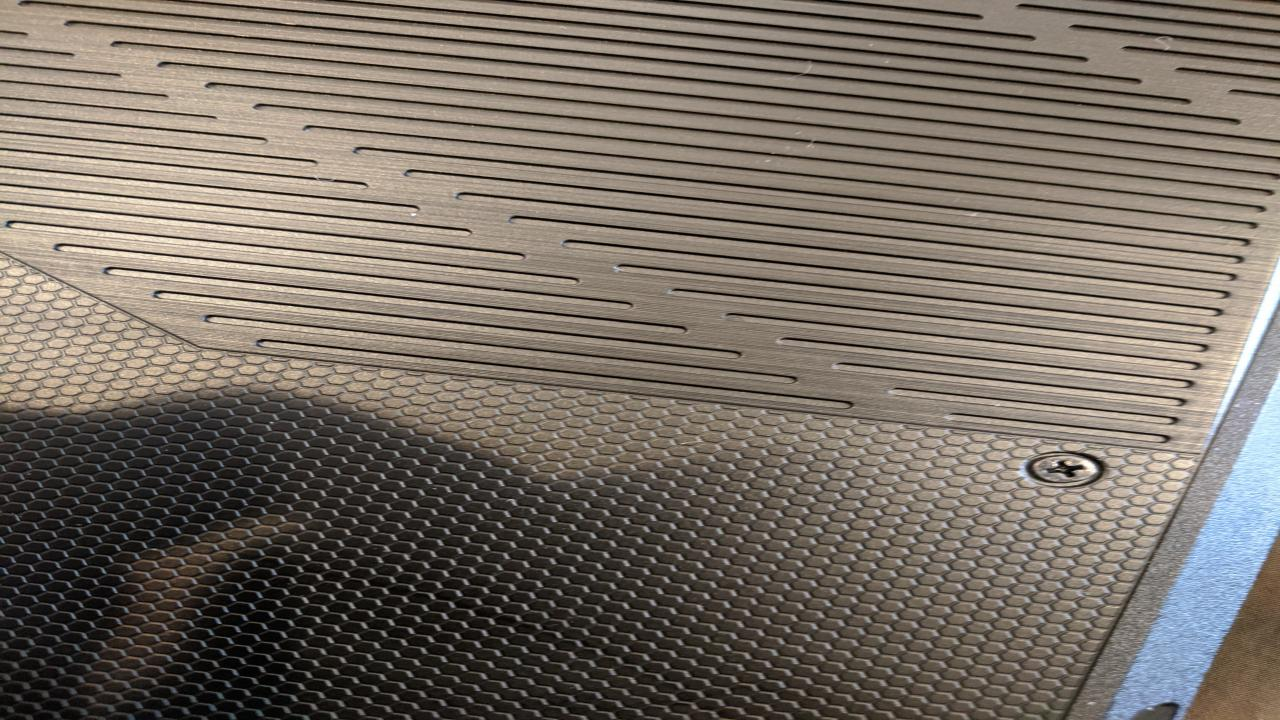CRS: (1023, 451, 1105, 483)
